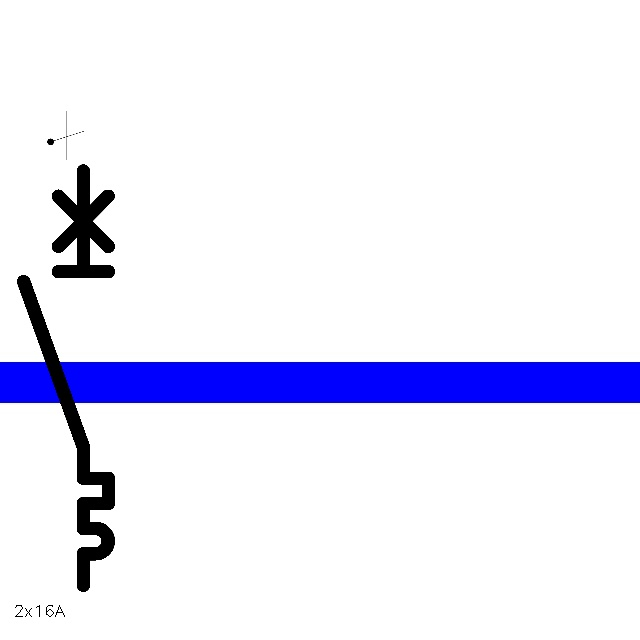interruptor_termomagnetico: (13, 160, 119, 595)
